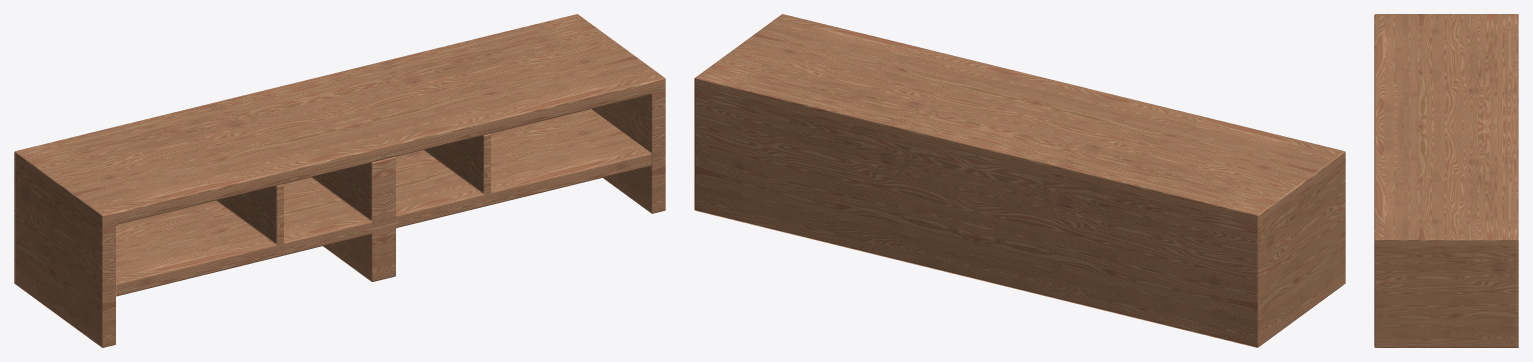
The model's file is desk.obj.
3 renders of one model, left to right at view 1: azimuth 30°, elevation 25°; view 2: azimuth 150°, elevation 25°; view 3: azimuth 270°, elevation 25°, orthographic. The views are drawn at different scales.
Parts seen in each view (by area): view 1: Table_Plane_046; view 2: Table_Plane_046; view 3: Table_Plane_046.
Boxes of the visible parts, bbox=[...] form: Table_Plane_046: bbox=[14, 14, 665, 347]; Table_Plane_046: bbox=[694, 14, 1345, 347]; Table_Plane_046: bbox=[1374, 14, 1518, 347].
Bounding box in the file's own units: 1.54 × 0.3461 × 0.4148.
1 material, 1 textured.
